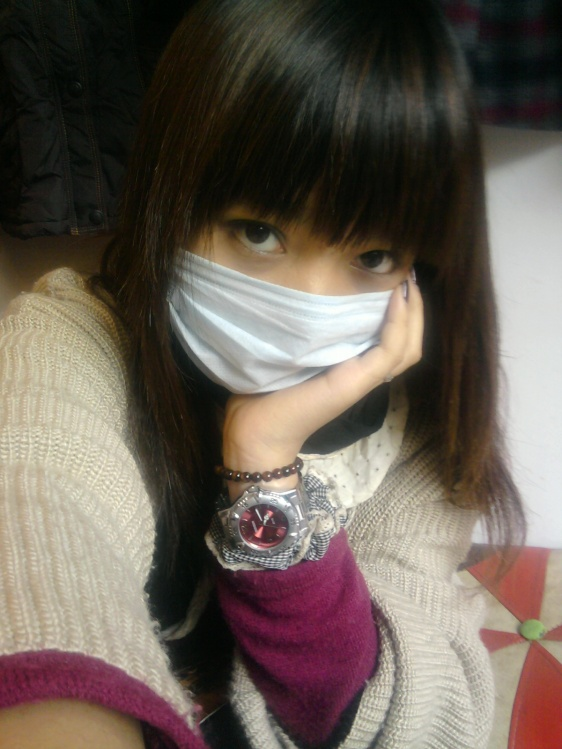face_mask: (166, 206, 406, 392)
